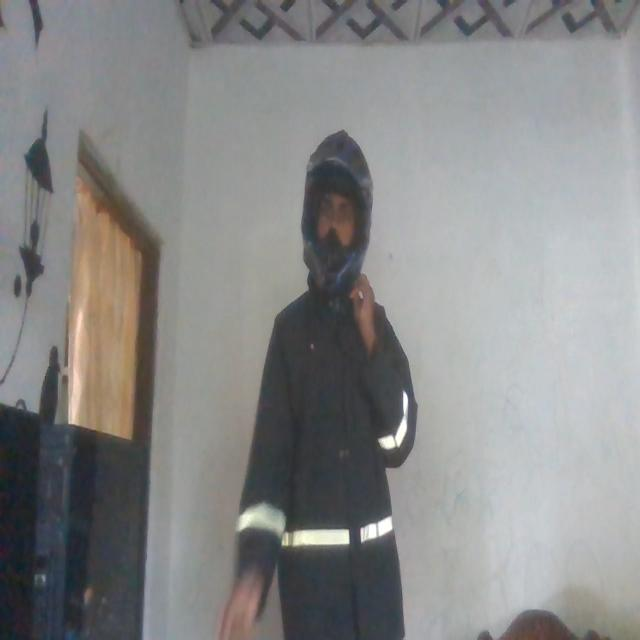Helmet_Wearer: (295, 134, 371, 302)
Jacket_Wearer: (232, 290, 410, 640)
Person: (246, 126, 416, 640)
